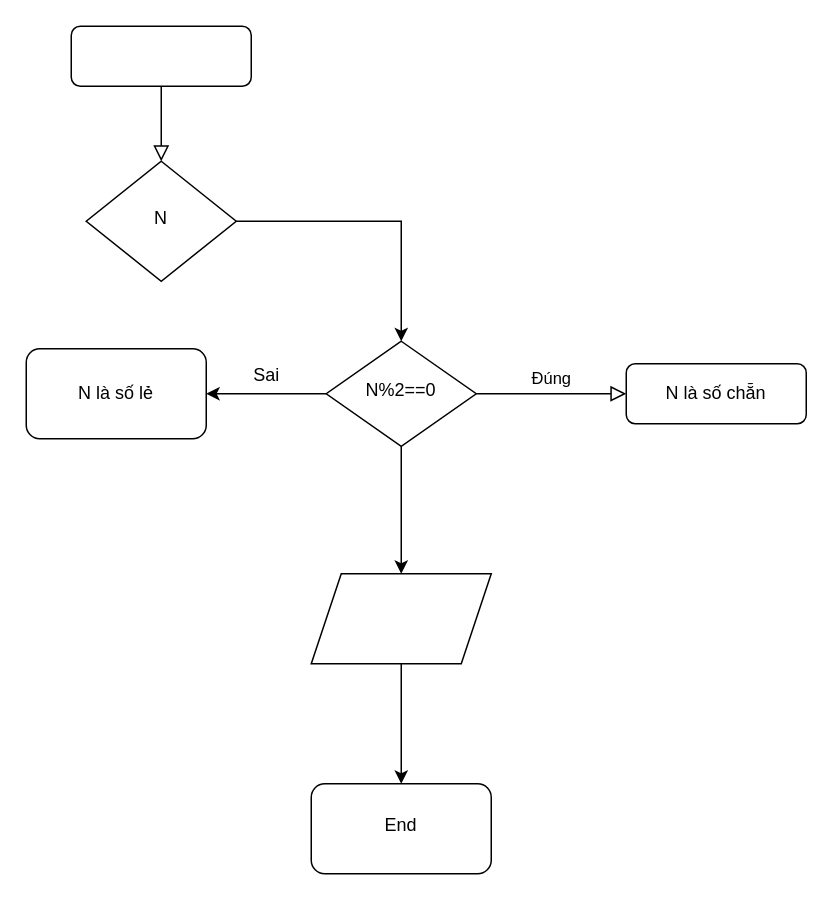
Some shapes in this 833 by 900 pixel diagram are drawn without their labels. Here are the shapes that lost their labels. From the top down, the centre of each, then its label:
(160,55): Start
(400,618): kết quả
